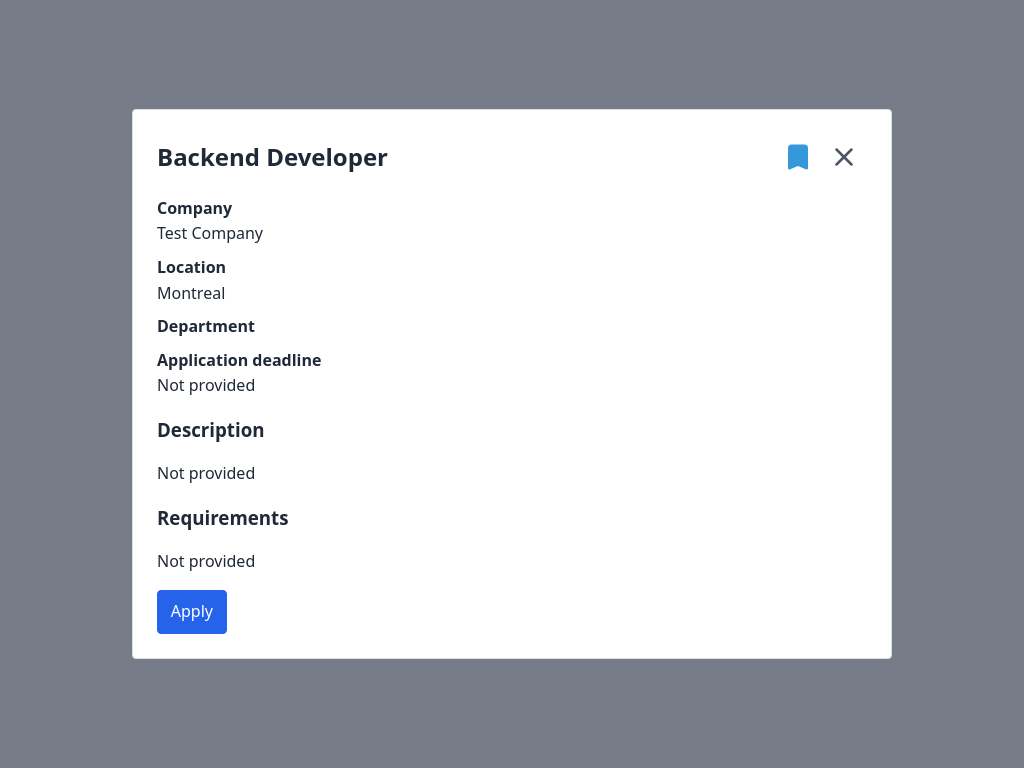
Test: Saved jobs acceptance tests › unsaves a job and keeps the confirmed bookmark state
Expected: the heading "Backend Developer" is shown, x1=157 y1=138 x2=388 y2=176
Click the button named "bookmark". click: (798, 157)
box: x1=775 y1=134 x2=821 y2=180
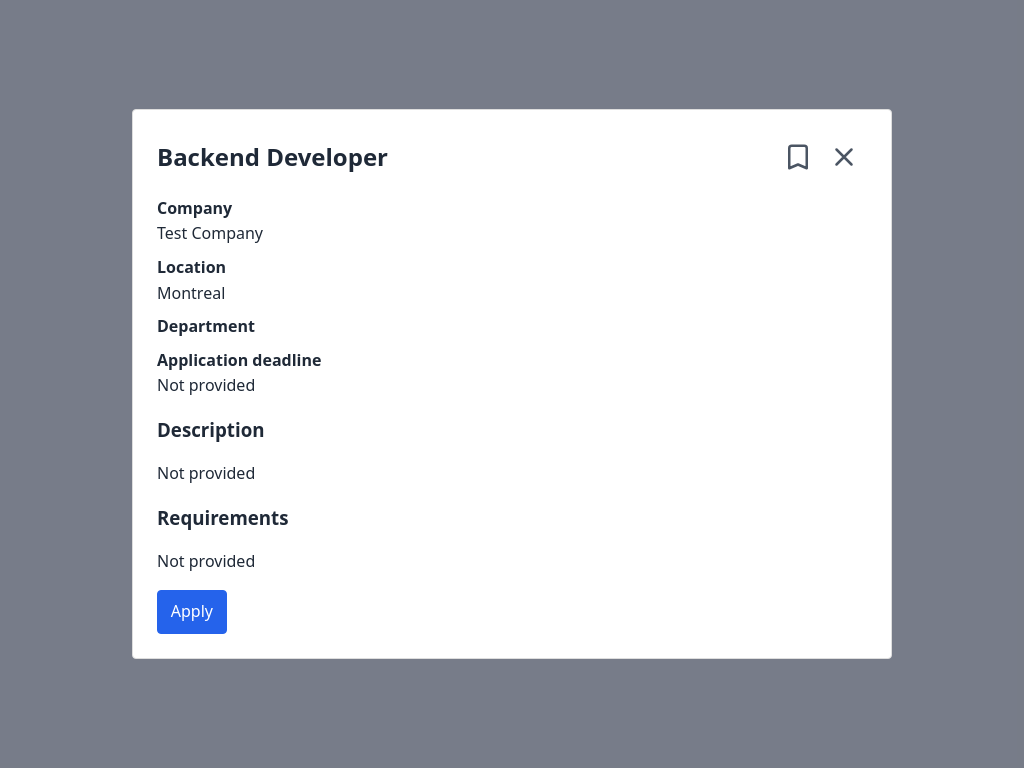
Result: the button named "bookmark" does not have class "filled" at x1=775 y1=134 x2=821 y2=180
